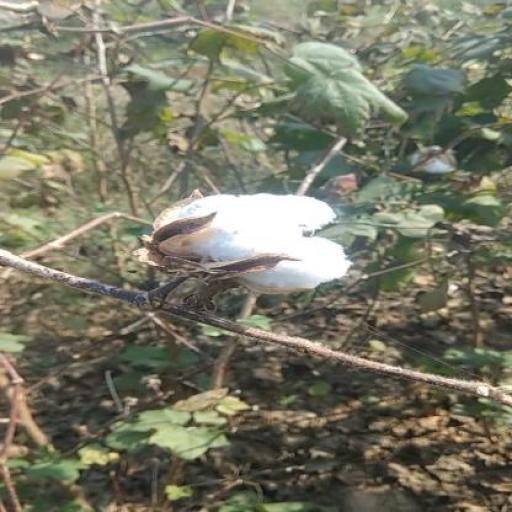cotton_ready: (147, 168, 361, 360)
